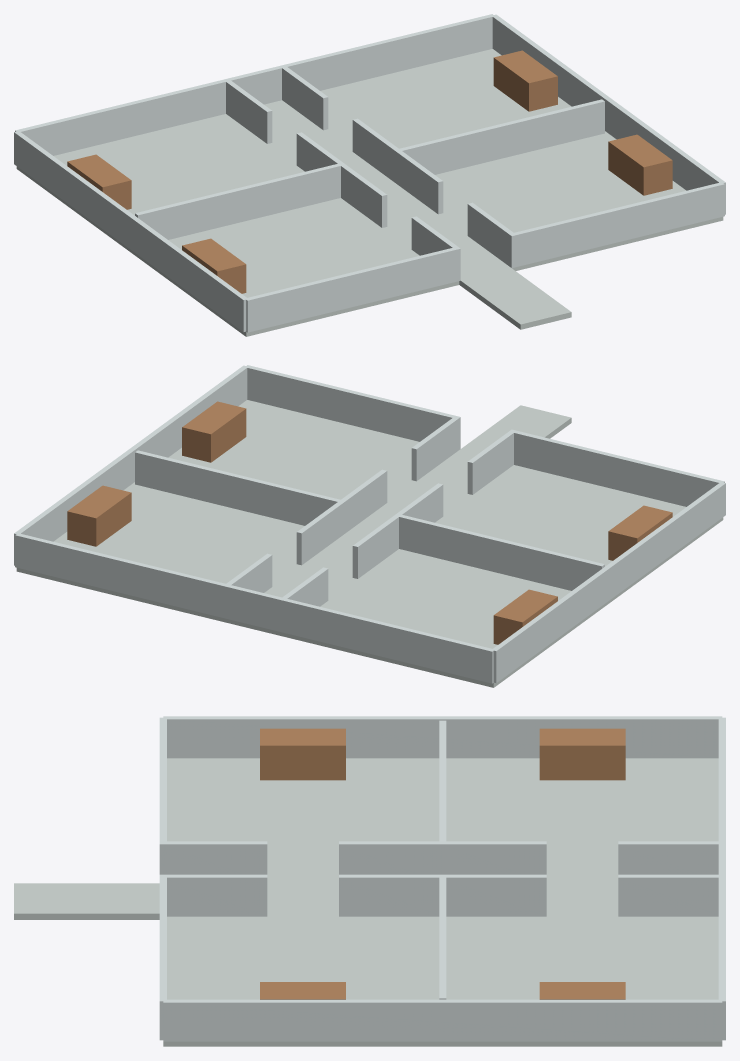
File: depot-cutaway.glb
3 views of the same model, one above another, from view 1: azimuth 30°, elevation 25°; view 2: azimuth 150°, elevation 25°; view 3: azimuth 270°, elevation 25° (orthographic). The views are drawn at different scales.
Visible parts, largest first — view 1: depot/floor/cutaway.002, depot/rear-wall/cutaway.002, depot/outer--1/cutaway.002, depot/entry-jamb--1/cutaway.002, depot/entry-jamb-1/cutaway.002, depot/room-divider--1/cutaway.002, depot/room-divider-1/cutaway.002, depot/outer-1/cutaway.002, depot/portal-floor-0/cutaway.002, depot/desk-1/cutaway.002, depot/desk-3/cutaway.002, depot/corridor-1-1-a/cutaway.002 (+9 smaller); view 2: depot/floor/cutaway.002, depot/rear-wall/cutaway.002, depot/outer--1/cutaway.002, depot/entry-jamb-1/cutaway.002, depot/entry-jamb--1/cutaway.002, depot/room-divider--1/cutaway.002, depot/room-divider-1/cutaway.002, depot/outer-1/cutaway.002, depot/desk-3/cutaway.002, depot/desk-1/cutaway.002, depot/portal-floor-0/cutaway.002, depot/corridor-1-1-b/cutaway.002 (+9 smaller); view 3: depot/floor/cutaway.002, depot/outer-1/cutaway.002, depot/outer--1/cutaway.002, depot/portal-floor-0/cutaway.002, depot/desk-2/cutaway.002, depot/desk-0/cutaway.002, depot/corridor-1-1-b/cutaway.002, depot/corridor-1-1-a/cutaway.002, depot/corridor-1--1-b/cutaway.002, depot/corridor-1--1-a/cutaway.002, depot/corridor--1-1-b/cutaway.002, depot/corridor--1-1-a/cutaway.002 (+9 smaller).
Part boxes in pixels (x1,y1,x2,y2): depot/floor/cutaway.002: [16, 49, 723, 336]; depot/rear-wall/cutaway.002: [15, 14, 493, 155]; depot/outer--1/cutaway.002: [14, 131, 247, 332]; depot/entry-jamb--1/cutaway.002: [245, 246, 460, 332]; depot/entry-jamb-1/cutaway.002: [510, 182, 724, 267]; depot/room-divider--1/cutaway.002: [135, 164, 340, 239]; depot/room-divider-1/cutaway.002: [399, 99, 604, 174]; depot/outer-1/cutaway.002: [491, 14, 725, 214]; depot/portal-floor-0/cutaway.002: [459, 267, 571, 329]; depot/desk-1/cutaway.002: [608, 134, 672, 195]; depot/desk-3/cutaway.002: [493, 50, 557, 111]; depot/corridor-1-1-a/cutaway.002: [395, 150, 443, 214]; depot/floor/cutaway.002: [16, 400, 723, 687]; depot/rear-wall/cutaway.002: [15, 533, 493, 683]; depot/outer--1/cutaway.002: [492, 482, 725, 683]; depot/entry-jamb-1/cutaway.002: [245, 365, 460, 449]; depot/entry-jamb--1/cutaway.002: [510, 429, 724, 506]; depot/room-divider--1/cutaway.002: [399, 515, 604, 590]; depot/room-divider-1/cutaway.002: [135, 450, 340, 525]; depot/outer-1/cutaway.002: [14, 365, 247, 565]; depot/desk-3/cutaway.002: [67, 485, 131, 546]; depot/desk-1/cutaway.002: [182, 401, 246, 462]; depot/portal-floor-0/cutaway.002: [460, 405, 571, 454]; depot/corridor-1-1-b/cutaway.002: [411, 417, 459, 481]; depot/floor/cutaway.002: [163, 758, 722, 1046]; depot/outer-1/cutaway.002: [163, 999, 722, 1041]; depot/outer--1/cutaway.002: [163, 716, 722, 758]; depot/portal-floor-0/cutaway.002: [14, 883, 159, 919]; depot/desk-2/cutaway.002: [539, 728, 625, 780]; depot/desk-0/cutaway.002: [260, 728, 345, 780]; depot/corridor-1-1-b/cutaway.002: [163, 874, 267, 916]; depot/corridor-1-1-a/cutaway.002: [339, 874, 442, 916]; depot/corridor-1--1-b/cutaway.002: [443, 874, 546, 916]; depot/corridor-1--1-a/cutaway.002: [618, 874, 718, 916]; depot/corridor--1-1-b/cutaway.002: [163, 841, 267, 874]; depot/corridor--1-1-a/cutaway.002: [339, 841, 442, 874].
Size of the model in its own units: 14.19 by 1.05 by 14.9.
